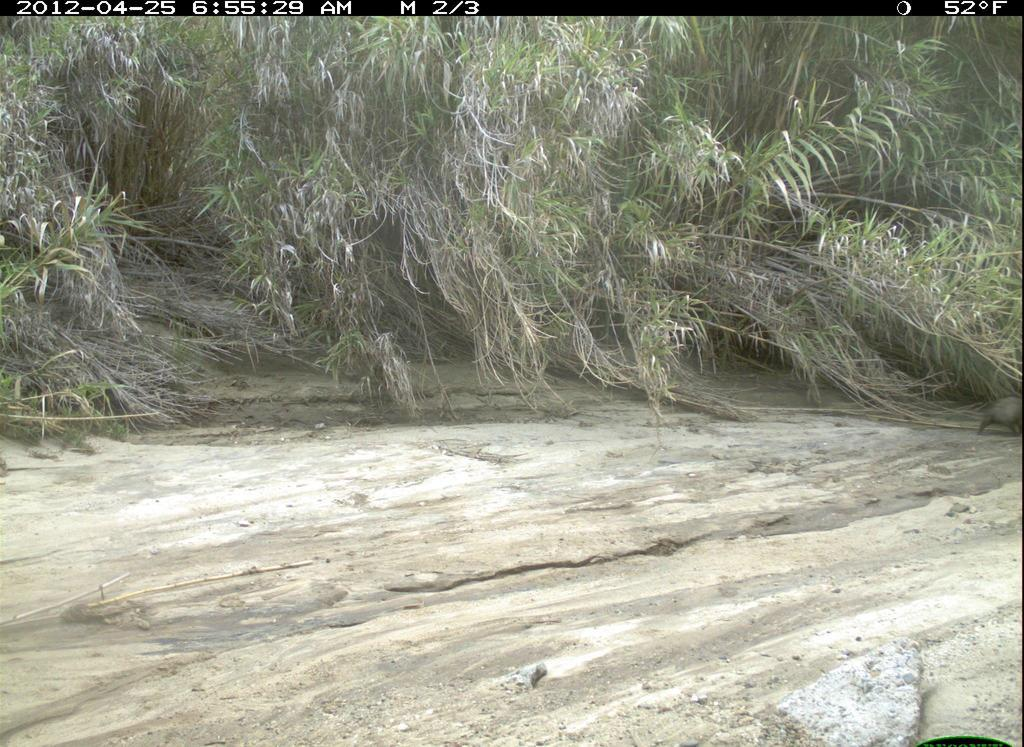opossum: (952, 393, 1023, 437)
